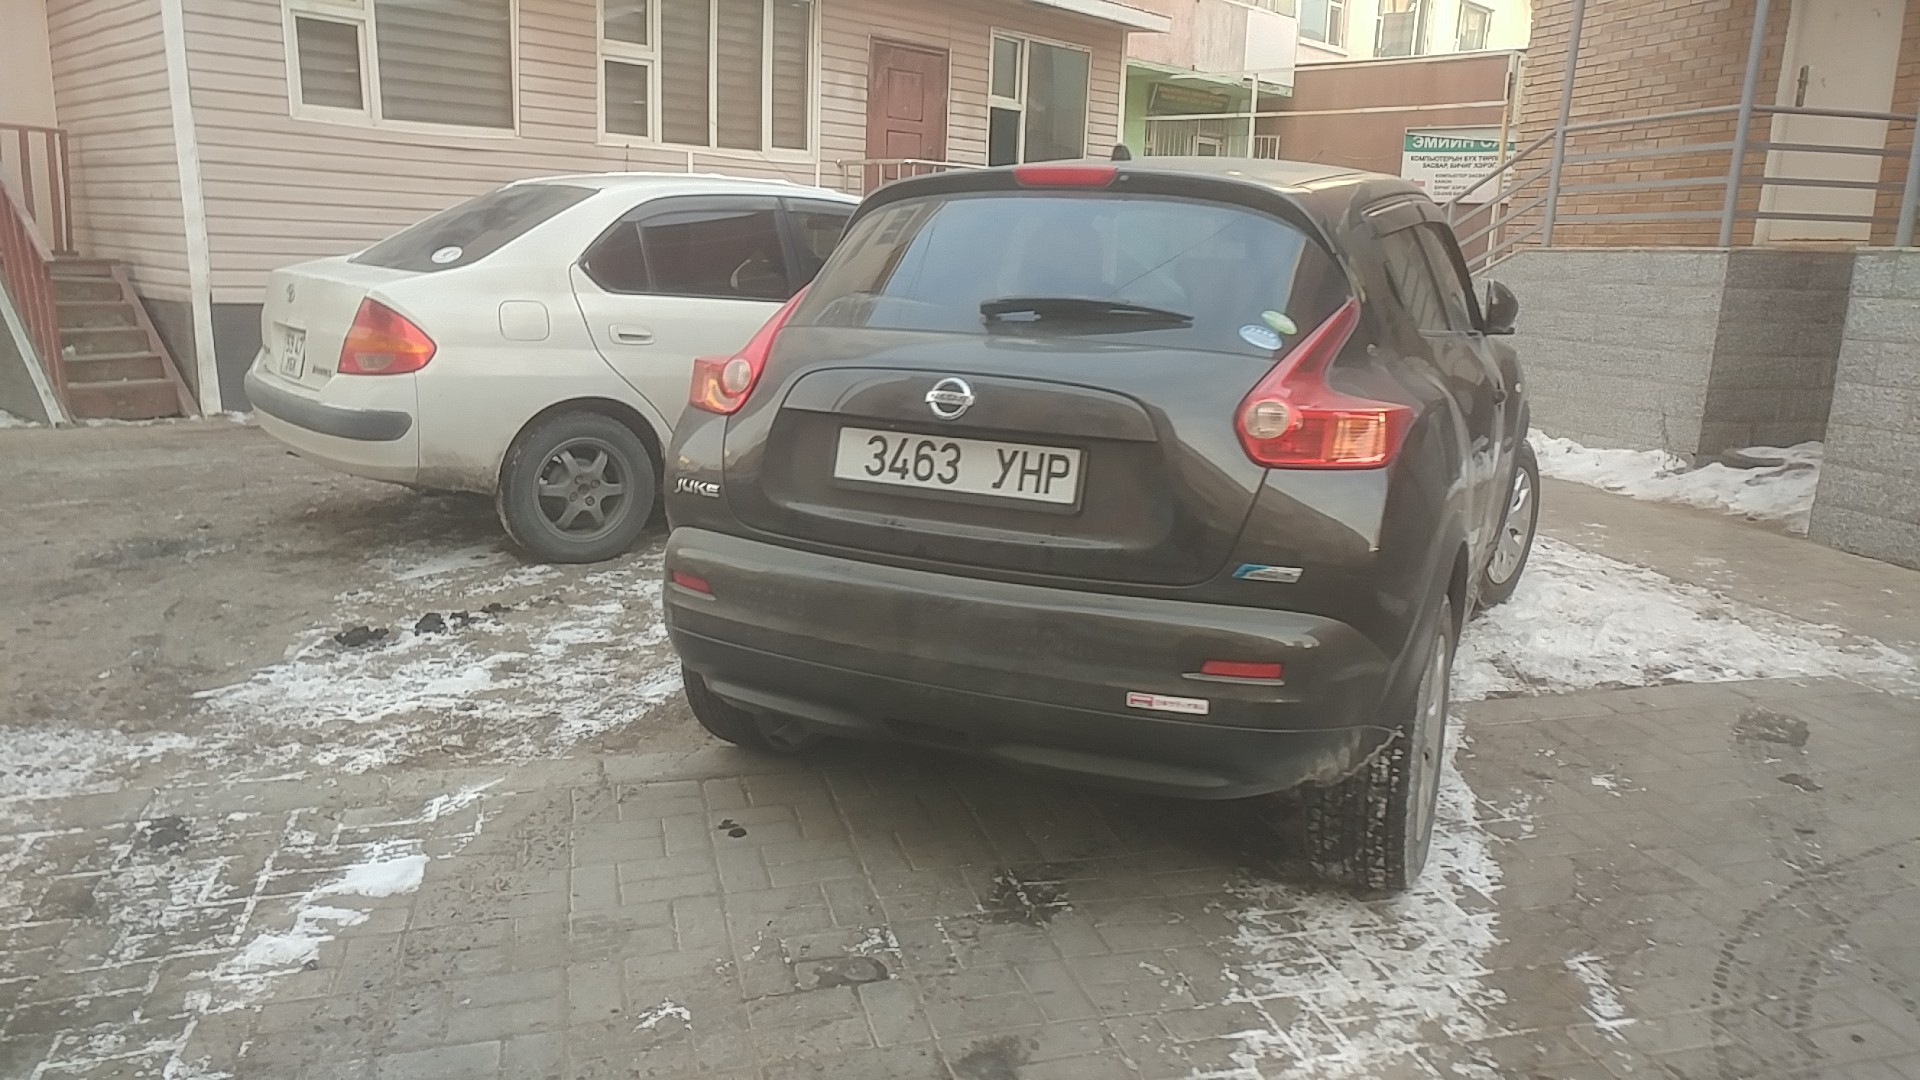3: (864, 434, 889, 478), (938, 441, 961, 485)
4: (889, 436, 911, 480)
6: (913, 439, 937, 482)
n: (1017, 449, 1044, 494)
plate: (827, 417, 1088, 517)
r: (1043, 451, 1072, 495)
u: (988, 445, 1018, 490)
